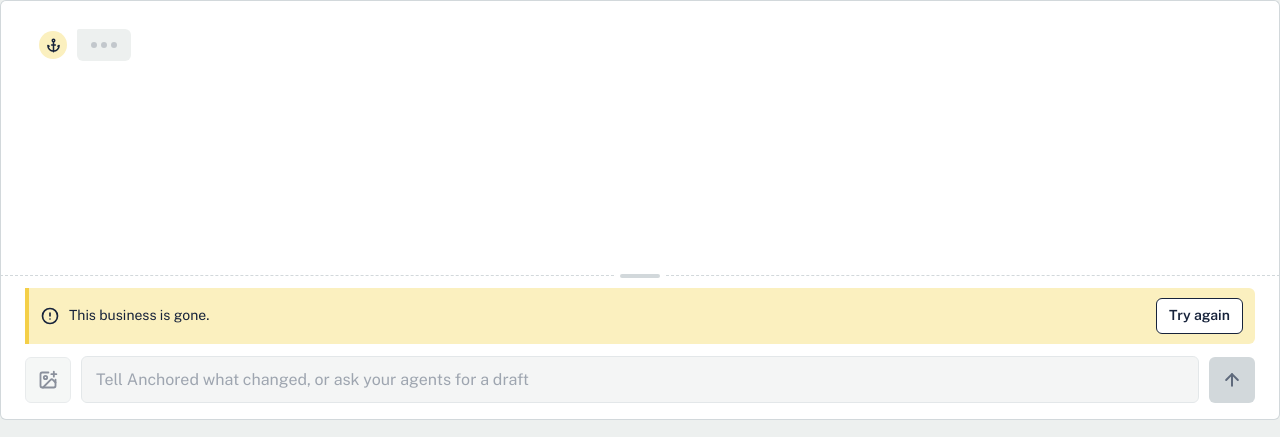
Test case: ChatWindow, business mode › says so when the conversation can't load, with a retry
Check: the message shows "This business is not shown.", box top-left (69, 307), bottom-right (209, 323)
Check: the text box named "Message Anchored" is disabled, box top-left (81, 356), bottom-right (1199, 403)
Step 1. Click the button "Try again" → x=1200, y=316, box top-left (1156, 298), bottom-right (1243, 334)
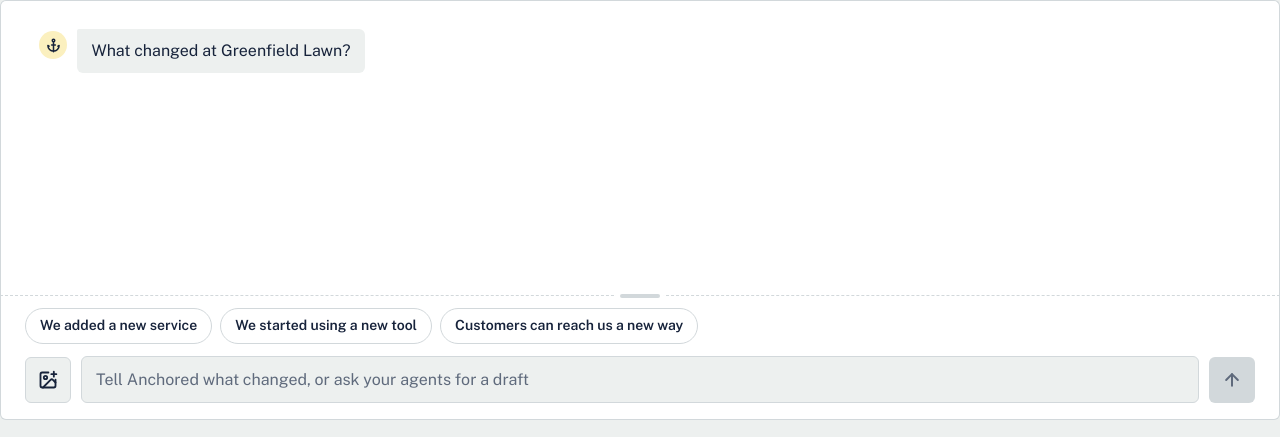
Check: the element showing "What changed at Greenfield Lawn?" is shown, box top-left (39, 29), bottom-right (365, 73)
Check: the text box named "Message Anchored" is enabled, box top-left (81, 356), bottom-right (1199, 403)
